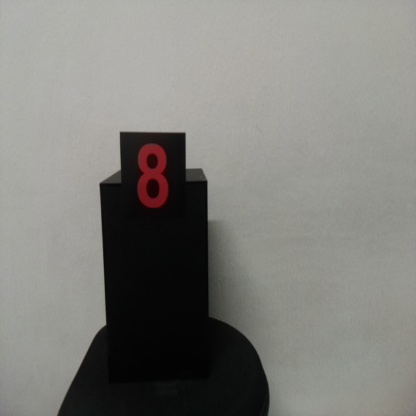id_8: (119, 132, 187, 230)
